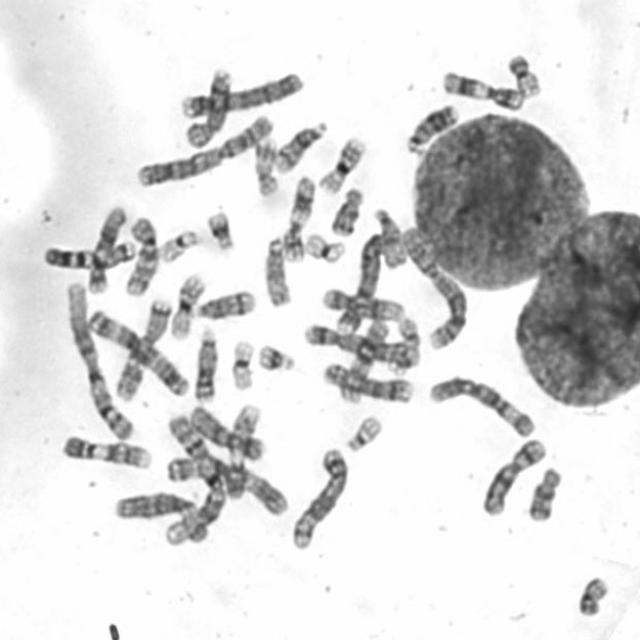A1: (60, 274, 136, 442), (159, 404, 229, 546)
A2: (129, 106, 277, 188), (395, 219, 470, 352)
A3: (79, 300, 192, 397), (160, 449, 290, 518)
B4: (331, 224, 400, 336), (174, 64, 306, 119)
B5: (285, 440, 350, 551), (297, 316, 417, 366)
C10: (334, 314, 390, 404), (119, 208, 160, 297)
C11: (436, 63, 526, 111), (278, 168, 318, 263)
C12: (81, 199, 129, 295), (316, 281, 406, 323)
C6: (423, 368, 539, 439), (108, 484, 210, 546)
C7: (110, 292, 175, 403), (36, 233, 138, 271)
C8: (178, 60, 236, 148), (318, 356, 416, 404)
C9: (219, 397, 264, 501), (55, 427, 155, 471)
D13: (399, 96, 461, 155), (189, 321, 220, 404)
D14: (269, 114, 330, 173), (188, 282, 258, 321)
D15: (367, 201, 408, 269), (258, 229, 293, 308)
E16: (312, 128, 368, 195), (164, 266, 208, 340)
E17: (248, 130, 282, 198), (387, 310, 423, 371)
E18: (521, 459, 564, 523), (324, 180, 366, 237)
F19: (224, 332, 257, 392), (299, 227, 347, 264)
F20: (501, 46, 544, 98), (570, 570, 612, 618)
G21: (200, 203, 237, 253), (252, 338, 297, 373)
G22: (152, 222, 204, 265), (339, 408, 385, 453)
X: (475, 430, 549, 518), (184, 398, 268, 461)
